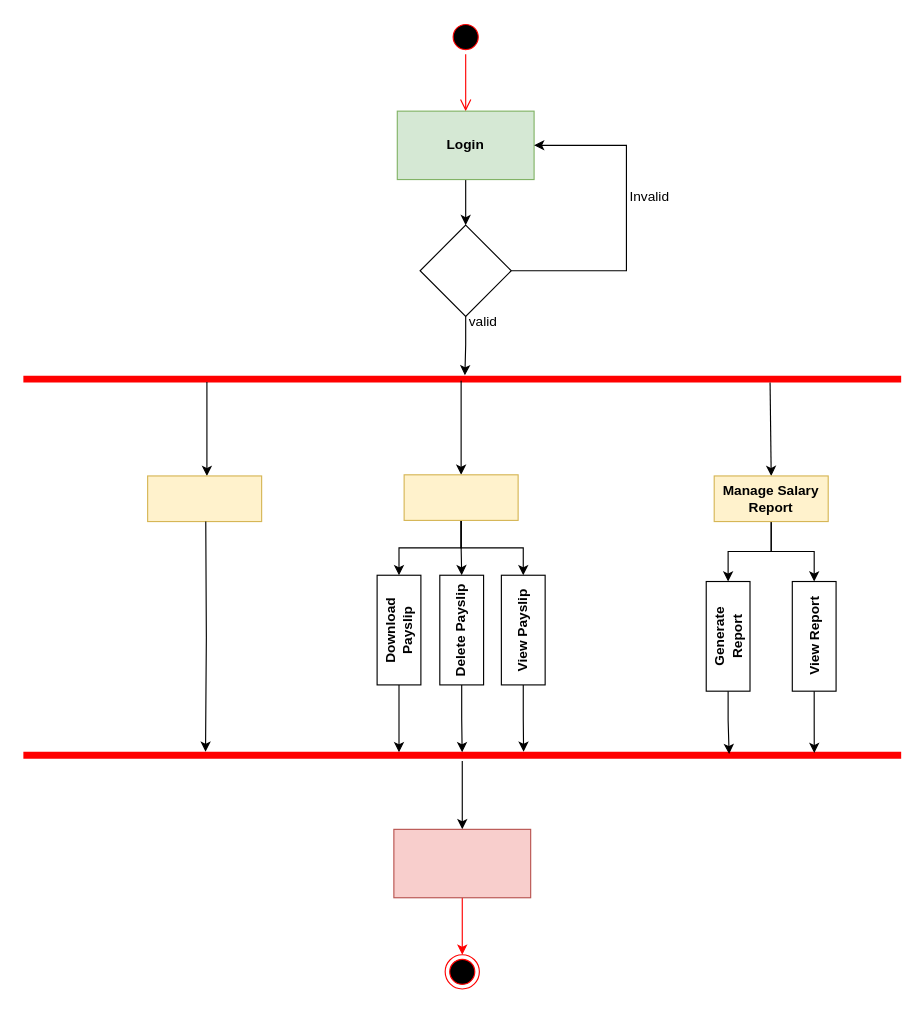
Some shapes in this 923 by 1009 pixel diagram are drawn without their labels. The shapes that lost their labels are listed below. From the top down, each one's centre as x and y in pixels, then its label:
At point (465, 270): "Authentication".
At point (204, 498): "View Salary".
At point (460, 497): "Mange Payslip".
At point (462, 863): "Logout".
